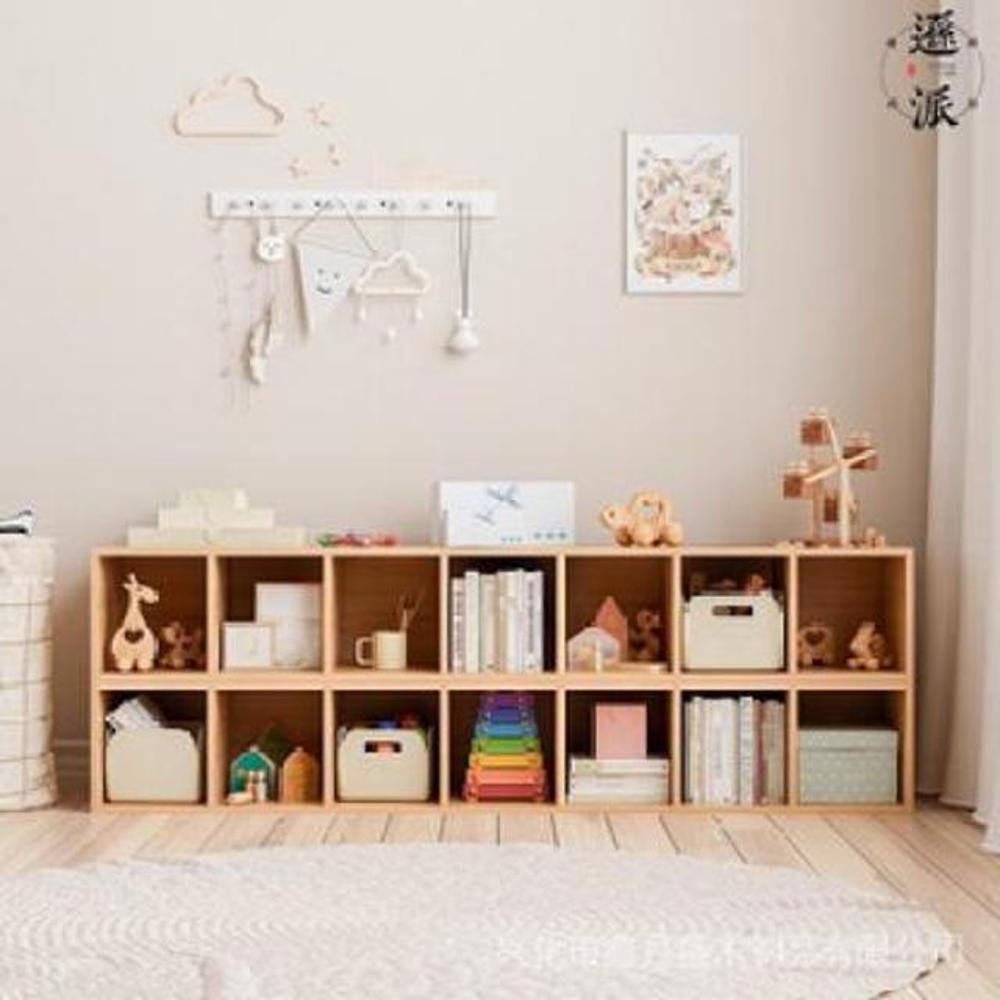lamp: (83, 544, 919, 814)
